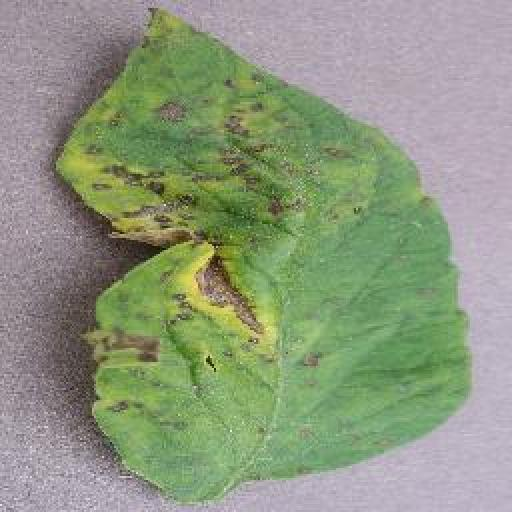disease_tomato: (61, 7, 468, 505)
